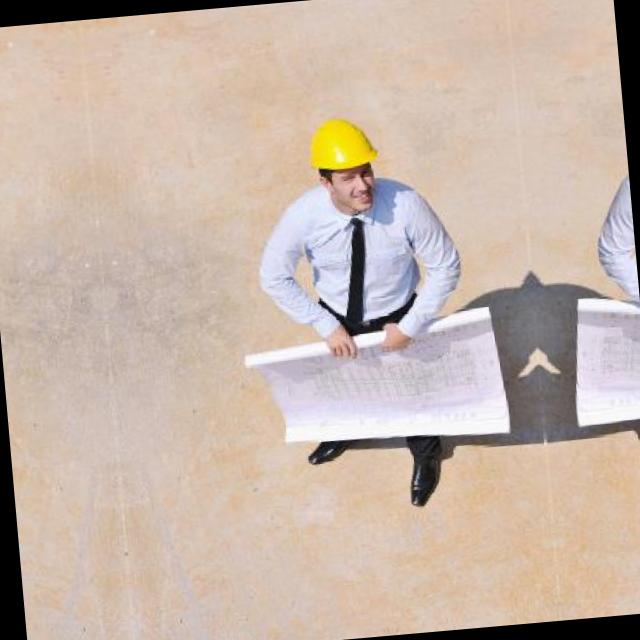helmet: (297, 104, 387, 226)
